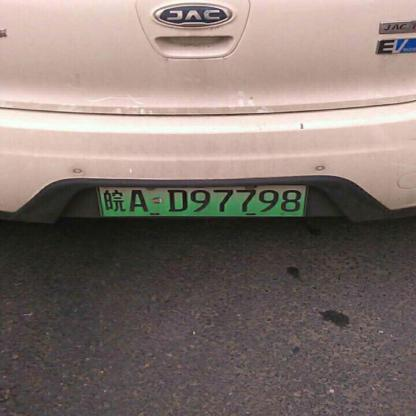lp: (95, 186, 306, 218)
